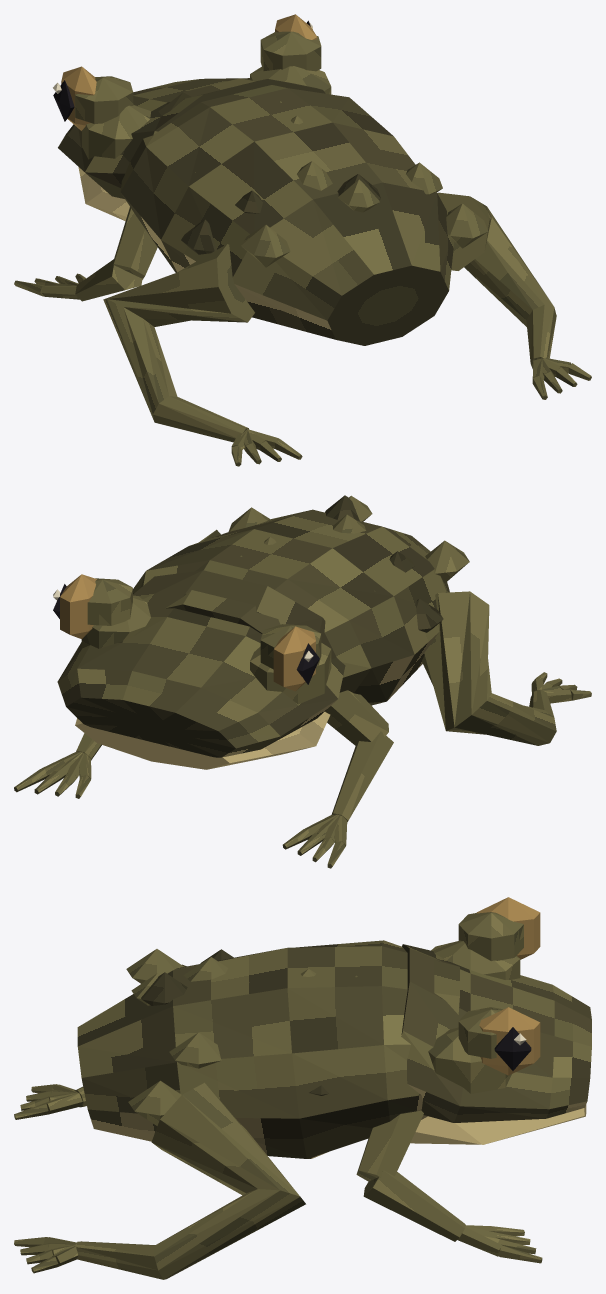
The model's file is mon_foul_toad.glb.
3 renders of one model, top to bottom at view 1: azimuth 30°, elevation 25°; view 2: azimuth 150°, elevation 25°; view 3: azimuth 270°, elevation 25°, orthographic. The views are drawn at different scales.
Visible parts, largest first — view 1: closed_body; view 2: closed_body; view 3: closed_body.
Part boxes in pixels (x1,y1,x2,y2): closed_body: [14, 14, 591, 466]; closed_body: [14, 495, 591, 868]; closed_body: [14, 897, 591, 1279].
Size of the model in its own units: 0.166 by 0.0861 by 0.1951.
Materials: 1 (1 with a texture image).
